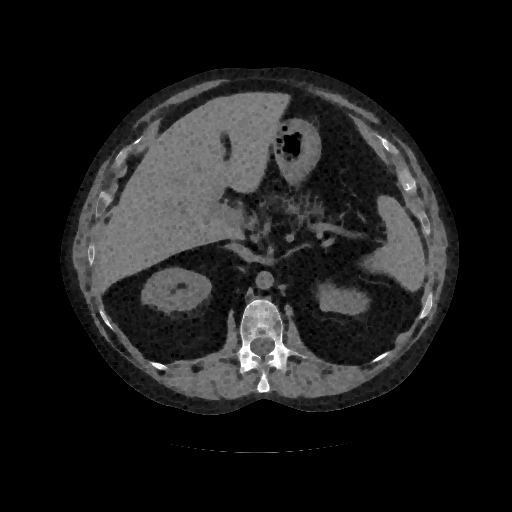Lesion: (315, 298, 331, 315)
